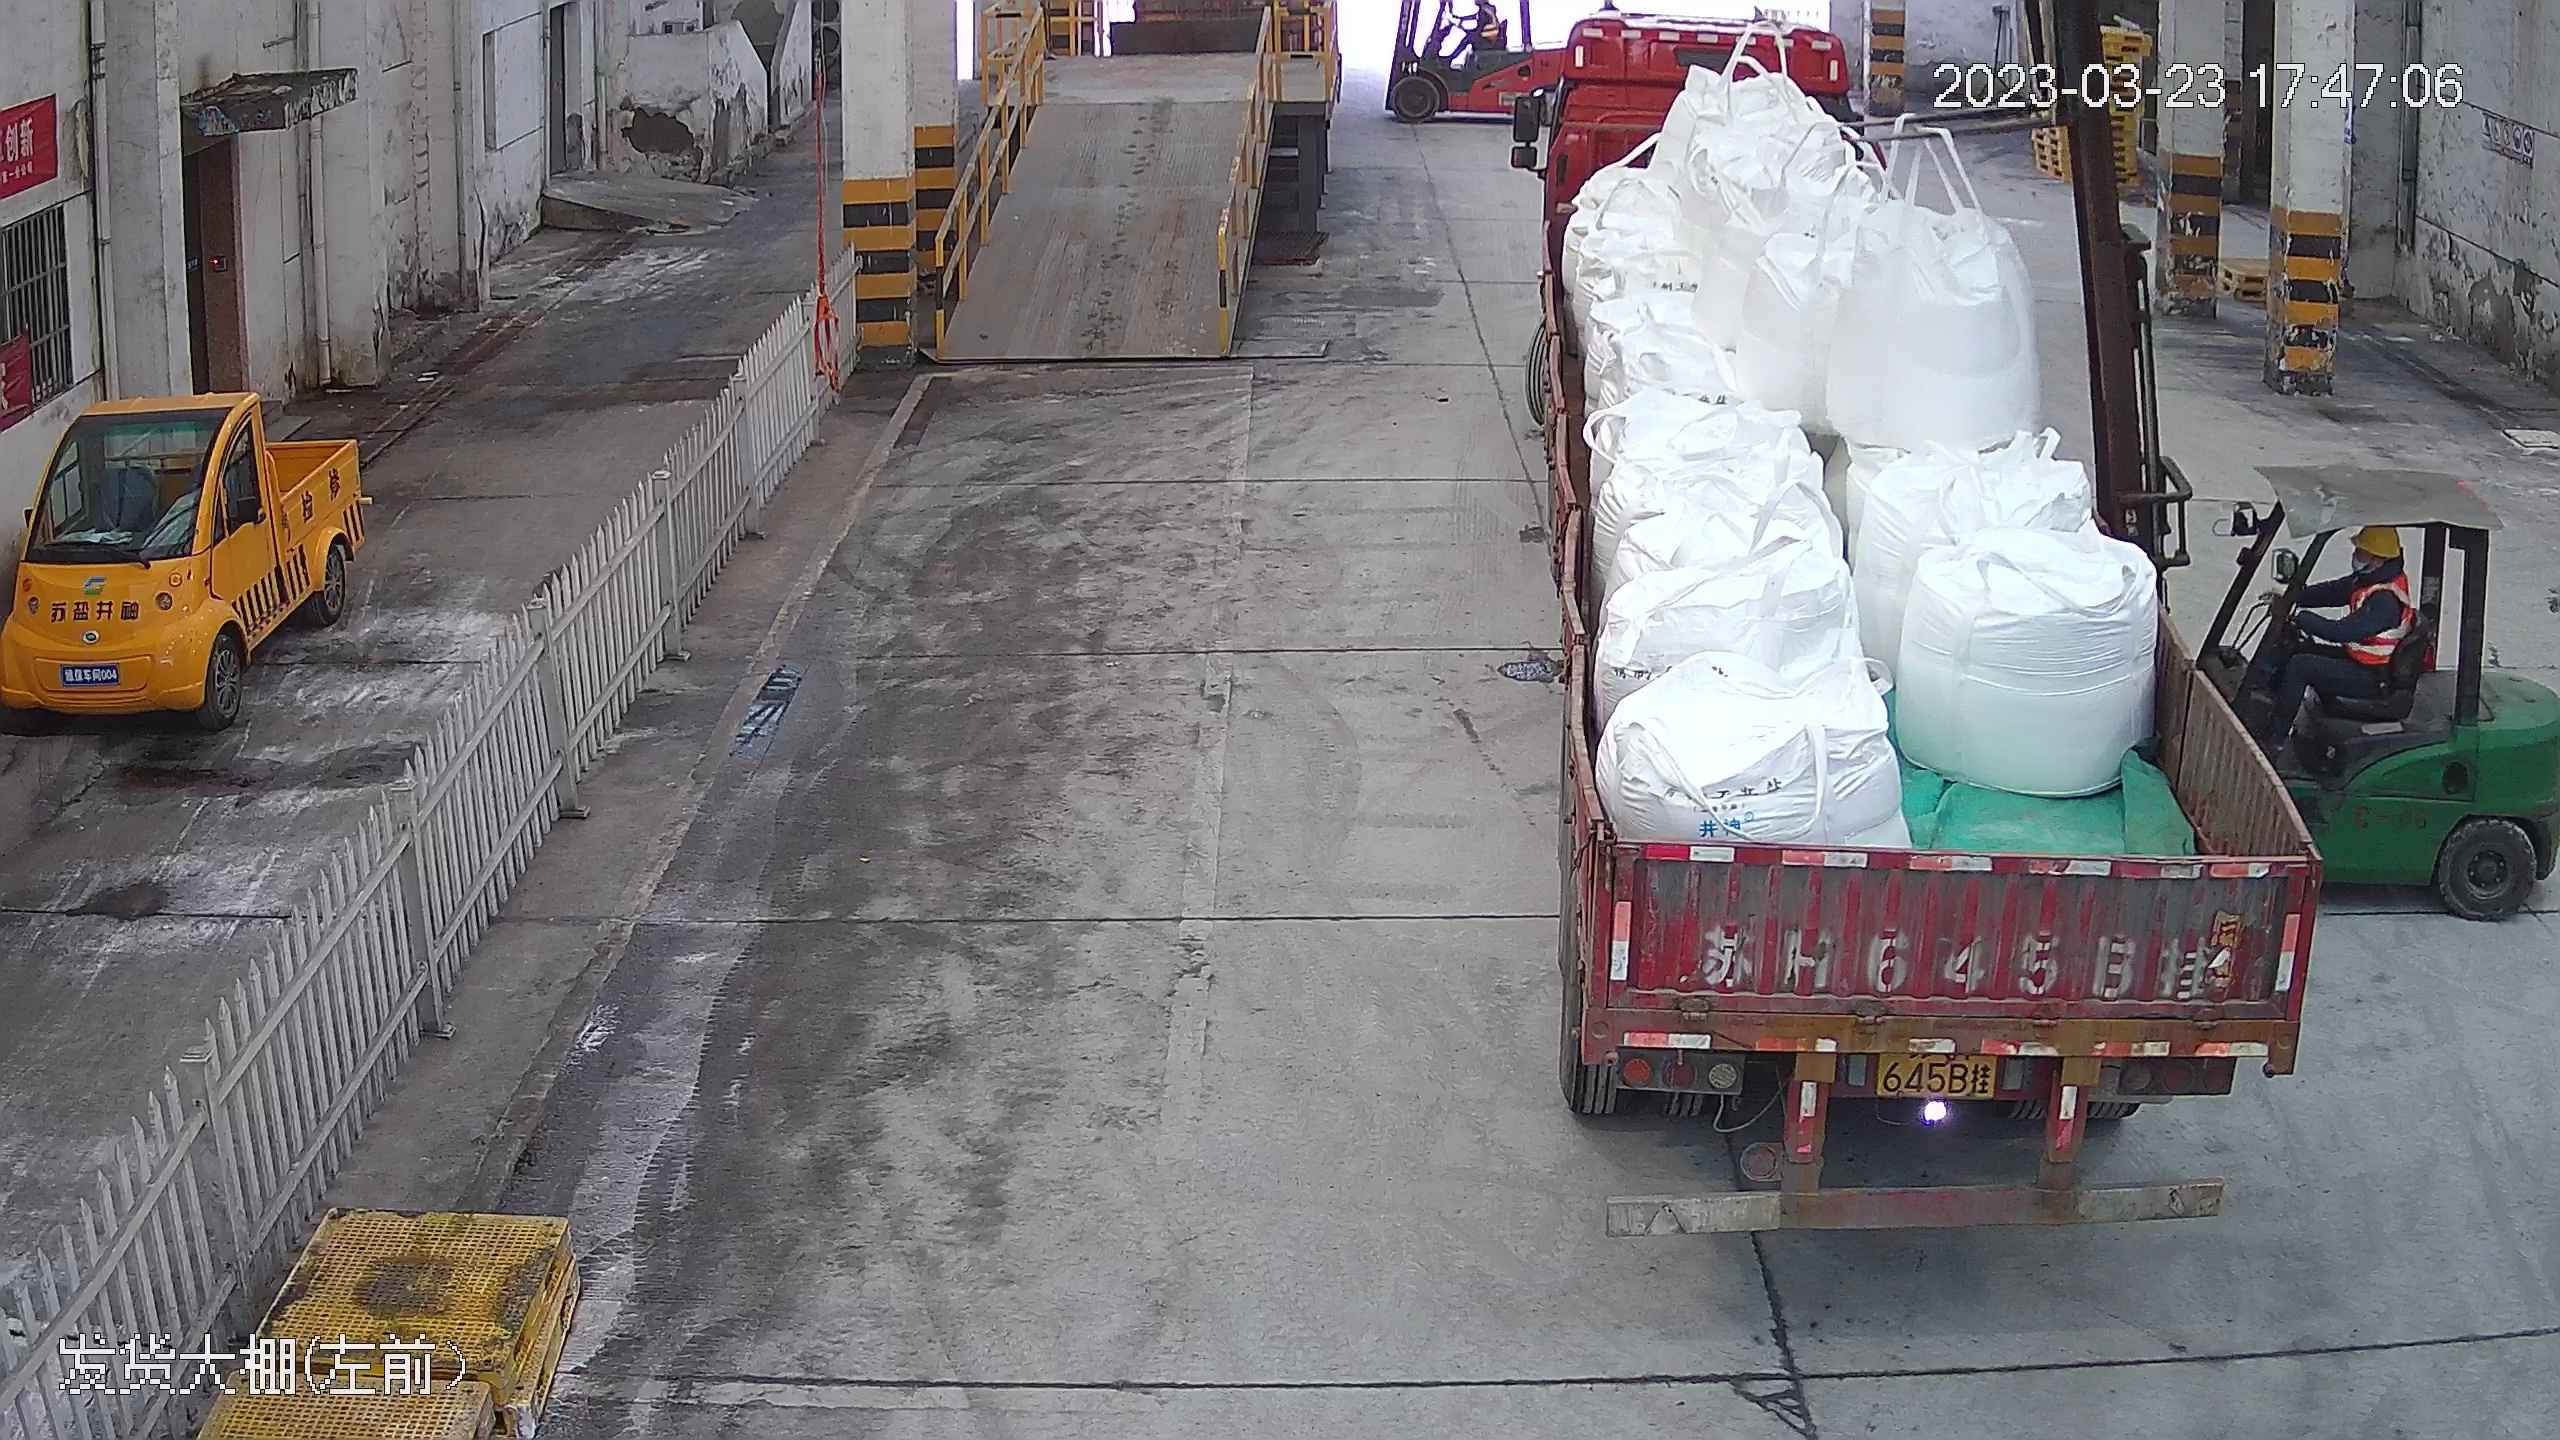head: (2330, 521, 2415, 621)
helmet: (2350, 521, 2406, 559)
people: (2270, 519, 2419, 744), (1446, 1, 1506, 64)
truck: (1511, 8, 2323, 1235)
